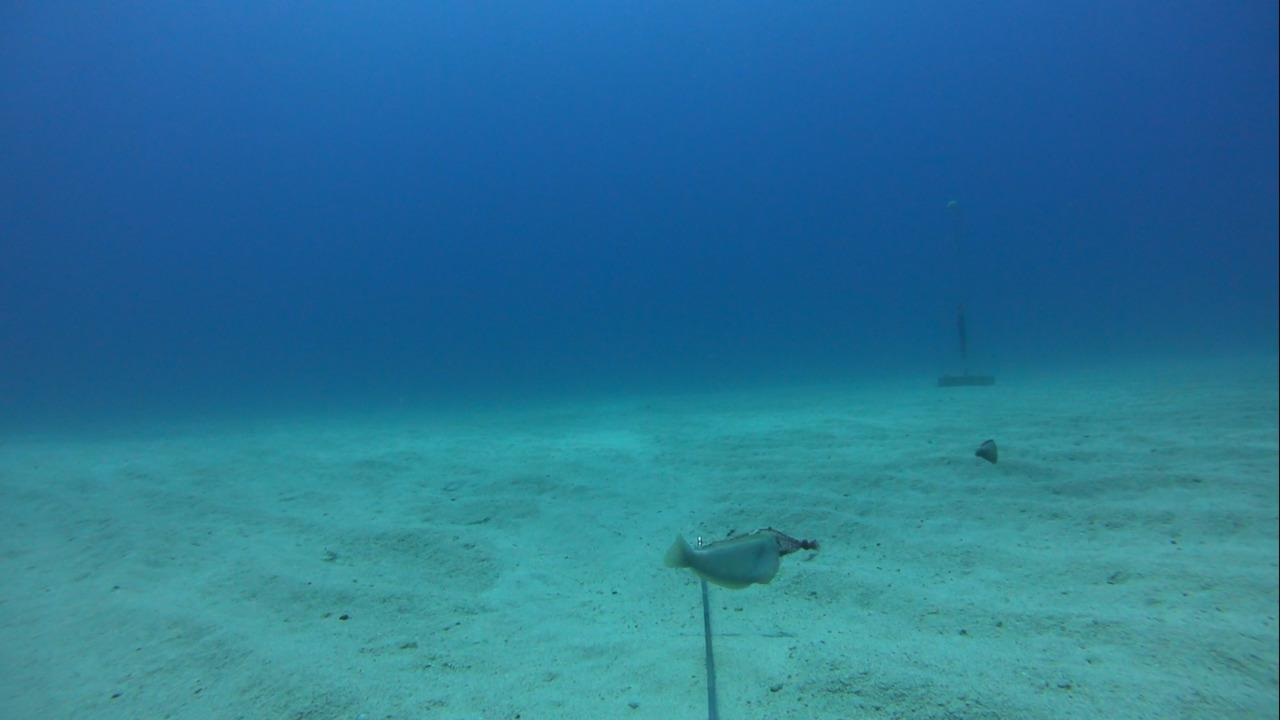raor: (655, 523, 791, 598), (959, 430, 1011, 468)
